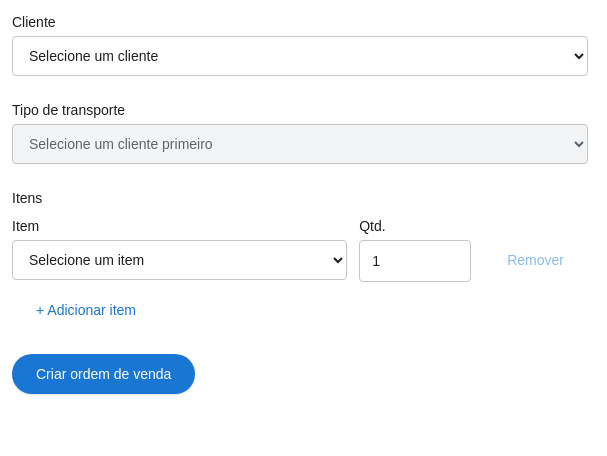
Test case: SalesOrderForm › cria uma ordem de venda com sucesso
Step 1. Select "Distribuidora Central" in the dropdown labelled "Cliente" → (300, 56), box [12,36,588,76]
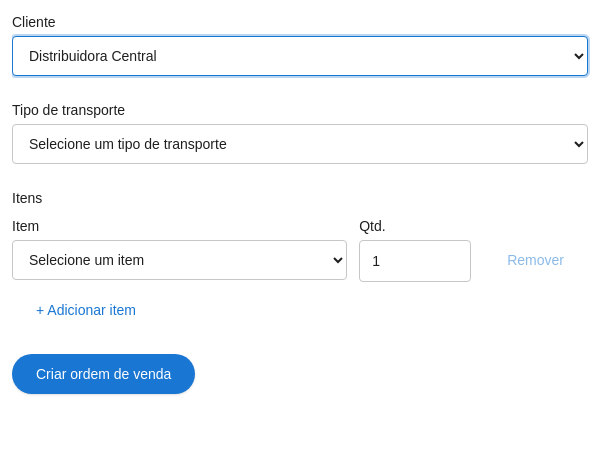
Step 2. Select "Caminhão" in the dropdown labelled "Tipo de transporte" → (300, 144), box [12,124,588,164]
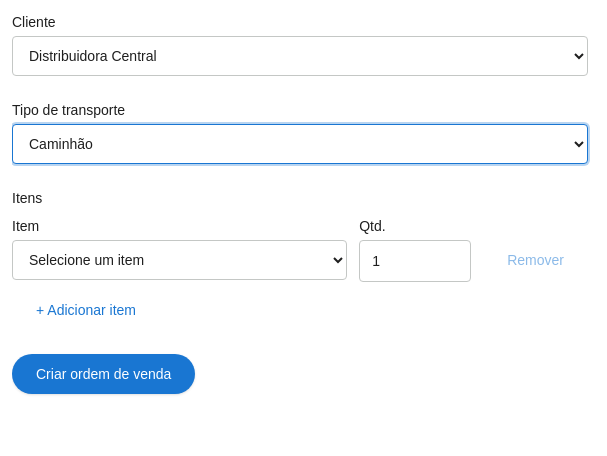
Step 3. Select "SKU-001 - Caixa de parafusos" in the dropdown labelled "Item" → (180, 260), box [12,240,347,280]
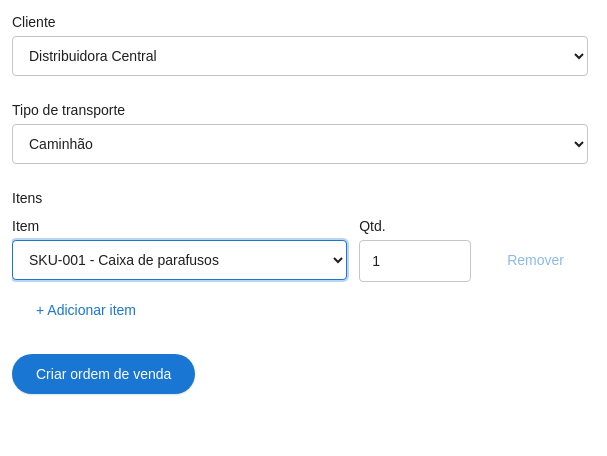
Step 4. Replace the text in the number field labelled "Qtd." with "3" → (415, 261), box [359,240,471,282]
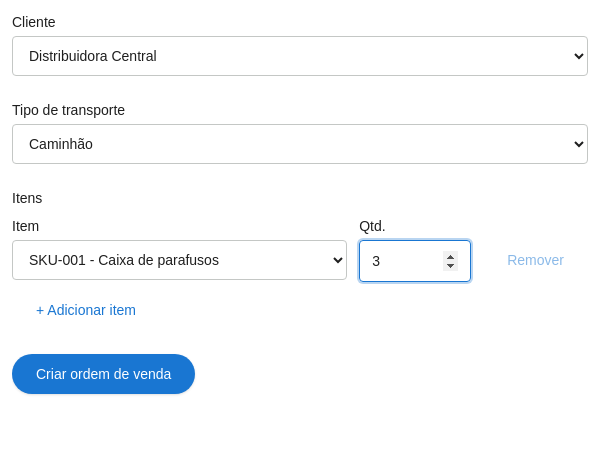
Step 5. Click the button "Criar ordem de venda" → (104, 374), box [12,354,195,394]
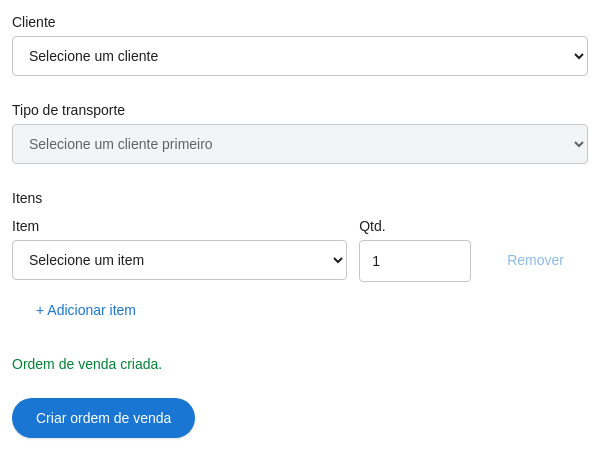
expect the text "Ordem de venda criada." is shown: met, box [12,356,162,372]
